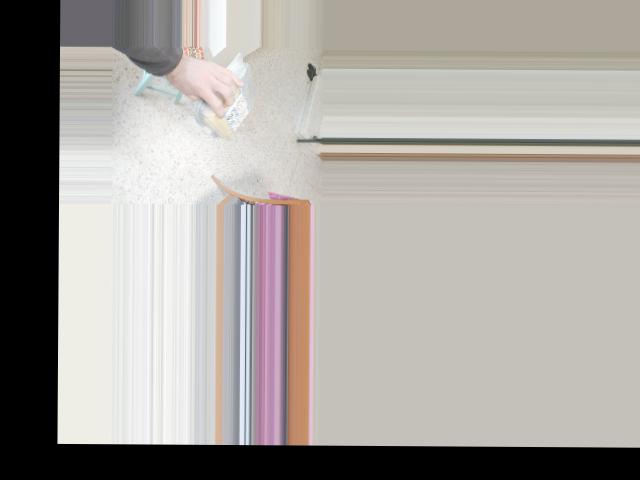cheese: (208, 57, 248, 149)
